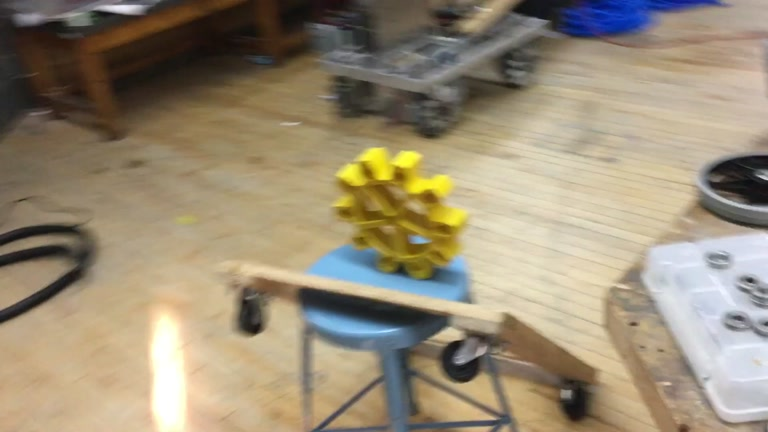gear: (332, 146, 466, 281)
